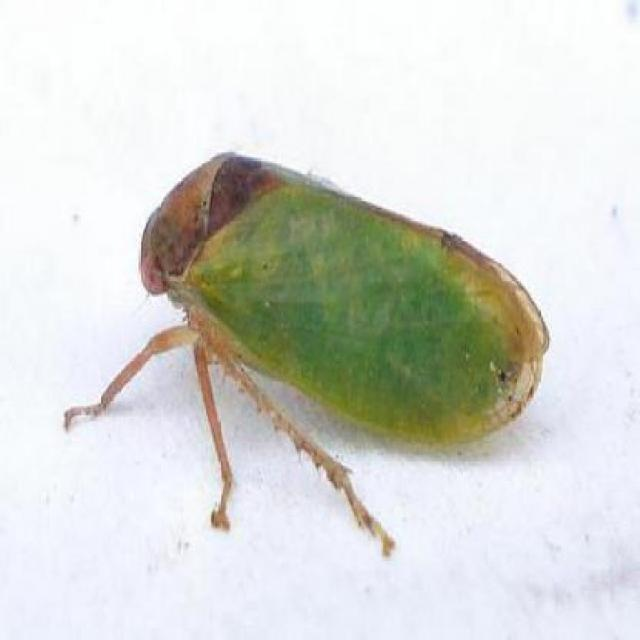green-leafhopper: (123, 150, 551, 478)
